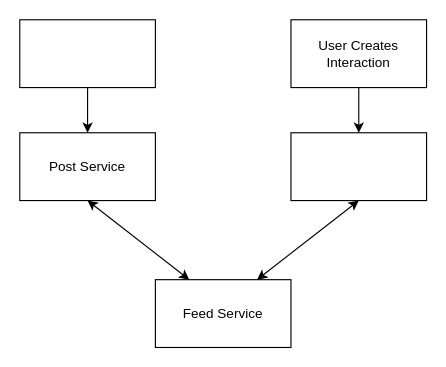
Image size: 446x367. Some labels were removed from this diagram. Here are the shapes that lost their labels. From the top down, the centre of each, then its label:
(87,53): User Created Post
(358,166): Interaction Service
